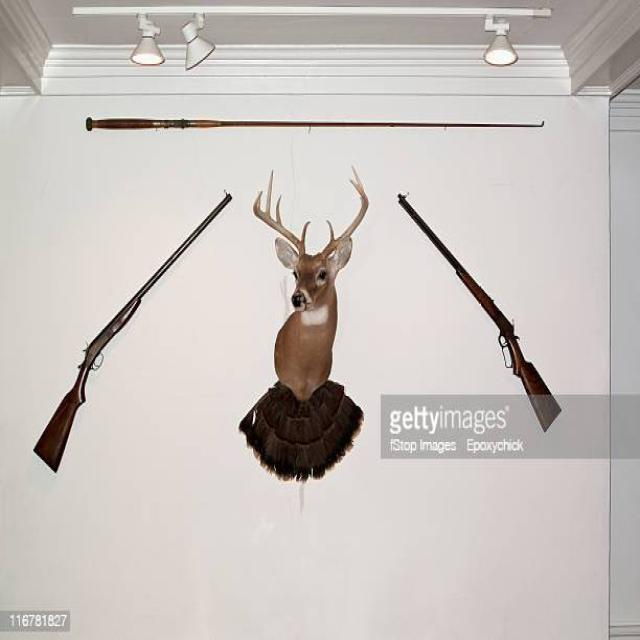ShotGun: (35, 192, 231, 474), (396, 195, 564, 431)
